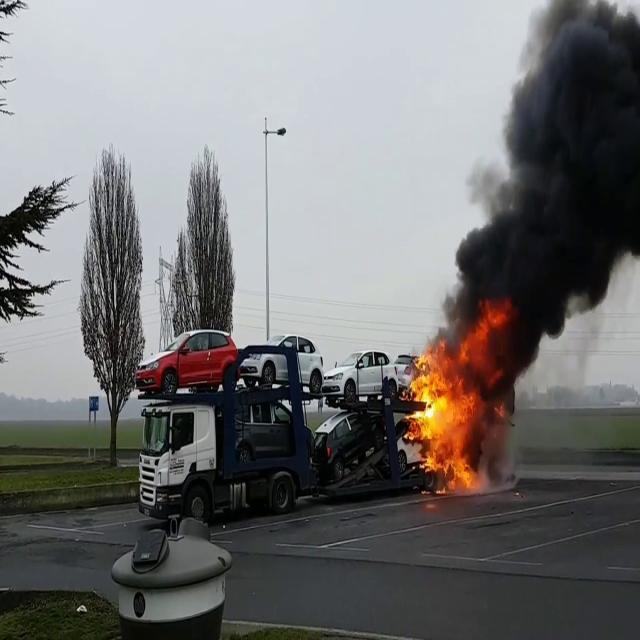Fire: (402, 332, 494, 488)
Smoke: (437, 0, 640, 378)
